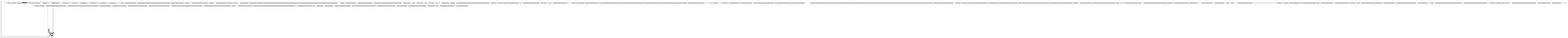room: (1402, 1, 1540, 37)
